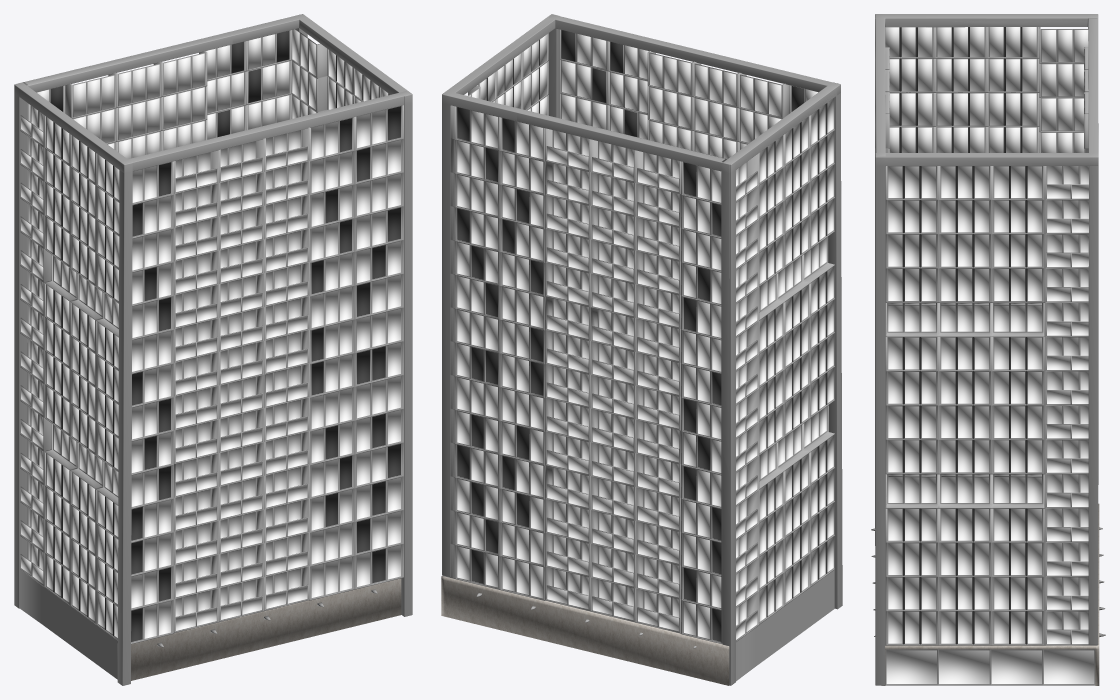
The model's file is city_03.gltf.
3 renders of one model, left to right at view 1: azimuth 30°, elevation 25°; view 2: azimuth 150°, elevation 25°; view 3: azimuth 270°, elevation 25°, orthographic.
Visible parts, largest first — view 1: city_03; view 2: city_03; view 3: city_03.
Boxes of the visible parts, x1,y1,x2,y2 form: city_03: [14, 14, 412, 685]; city_03: [441, 14, 842, 685]; city_03: [871, 14, 1105, 685].
Size of the model in its own units: 25.27 by 43.27 by 17.42.
5 materials, 1 textured.
